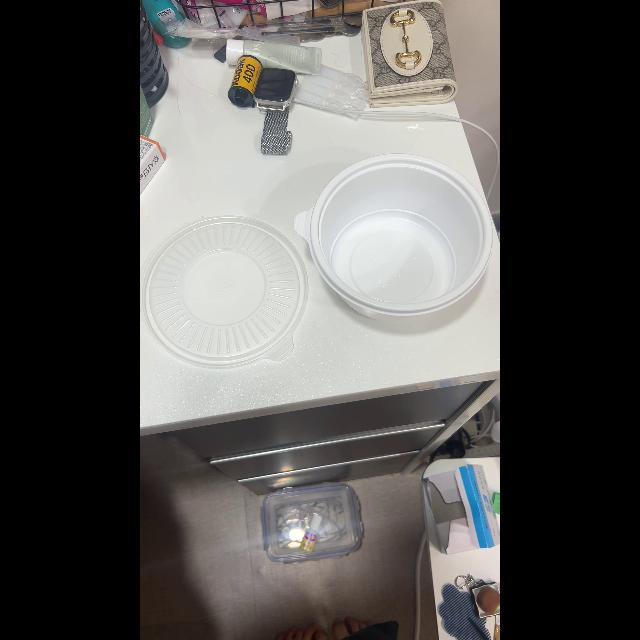clean: (312, 153, 496, 321), (148, 210, 304, 368)
